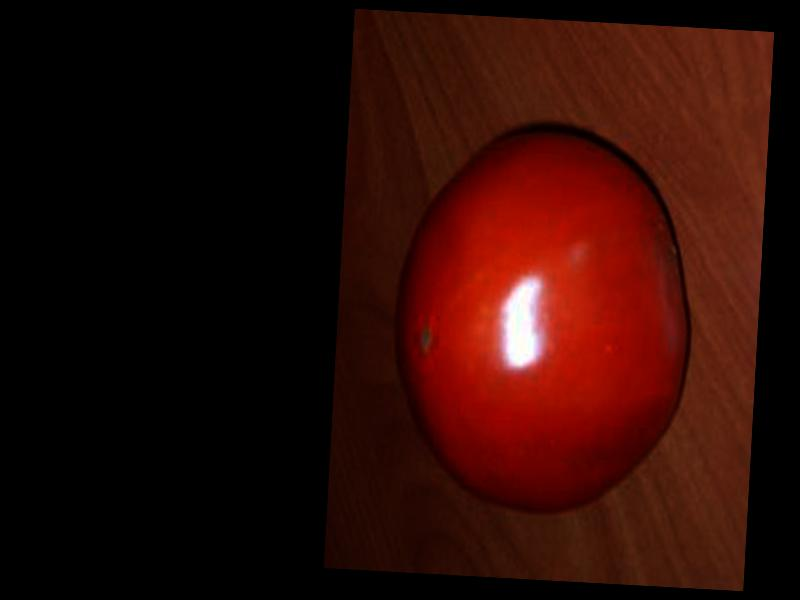Tomato: (383, 116, 698, 524)
